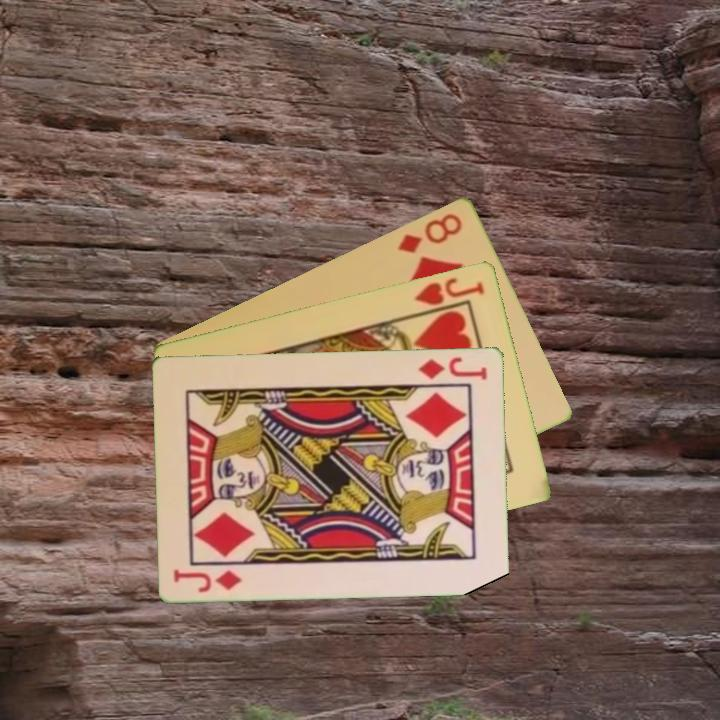8d: (394, 209, 466, 256)
Jd: (415, 353, 491, 382), (170, 565, 245, 594)
Jh: (411, 273, 488, 308)
